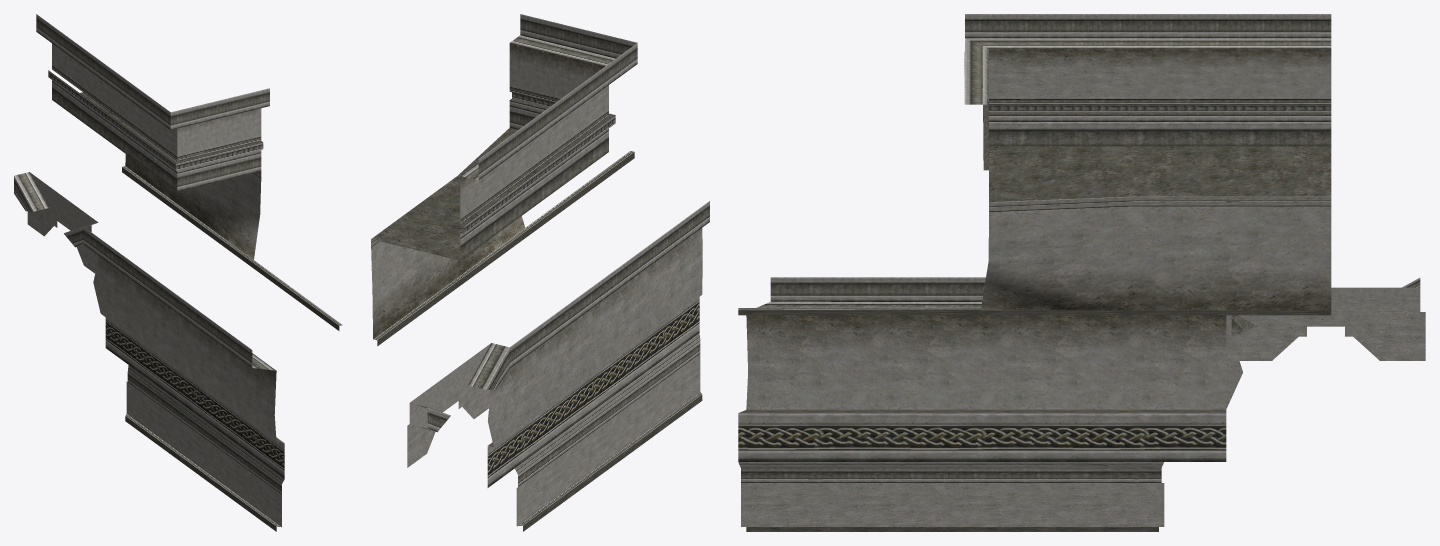
File: DWARF_PALACE_FORGE_WALL01B.fbx
3 views of the same model, side by side, from view 1: azimuth 30°, elevation 25°; view 2: azimuth 150°, elevation 25°; view 3: azimuth 270°, elevation 25° (orthographic). The views are drawn at different scales.
Visible parts, largest first — view 1: DWARF_PALACE_FORGE_WALL01B; view 2: DWARF_PALACE_FORGE_WALL01B; view 3: DWARF_PALACE_FORGE_WALL01B.
Part boxes in pixels (x1,y1,x2,y2): DWARF_PALACE_FORGE_WALL01B: (14,14,342,531); DWARF_PALACE_FORGE_WALL01B: (371,14,709,531); DWARF_PALACE_FORGE_WALL01B: (738,14,1425,531).
Bounding box in the file's own units: 58001 × 205000 × 255004.
7 materials, 7 textured.
